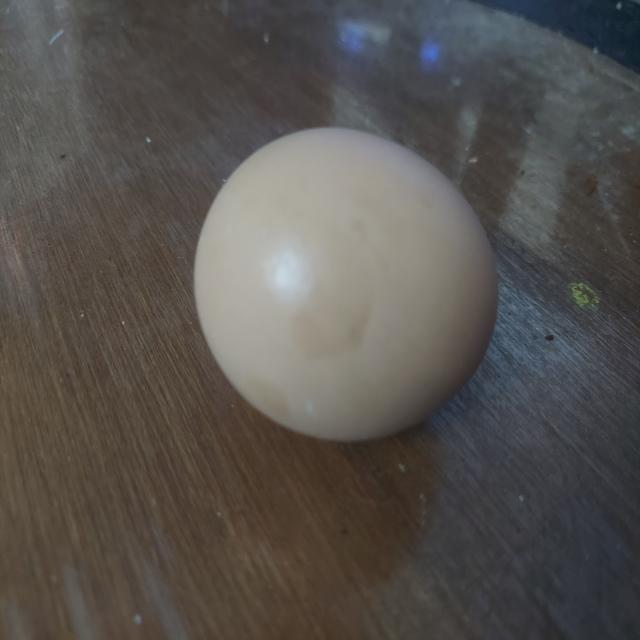egg: (191, 122, 503, 450)
